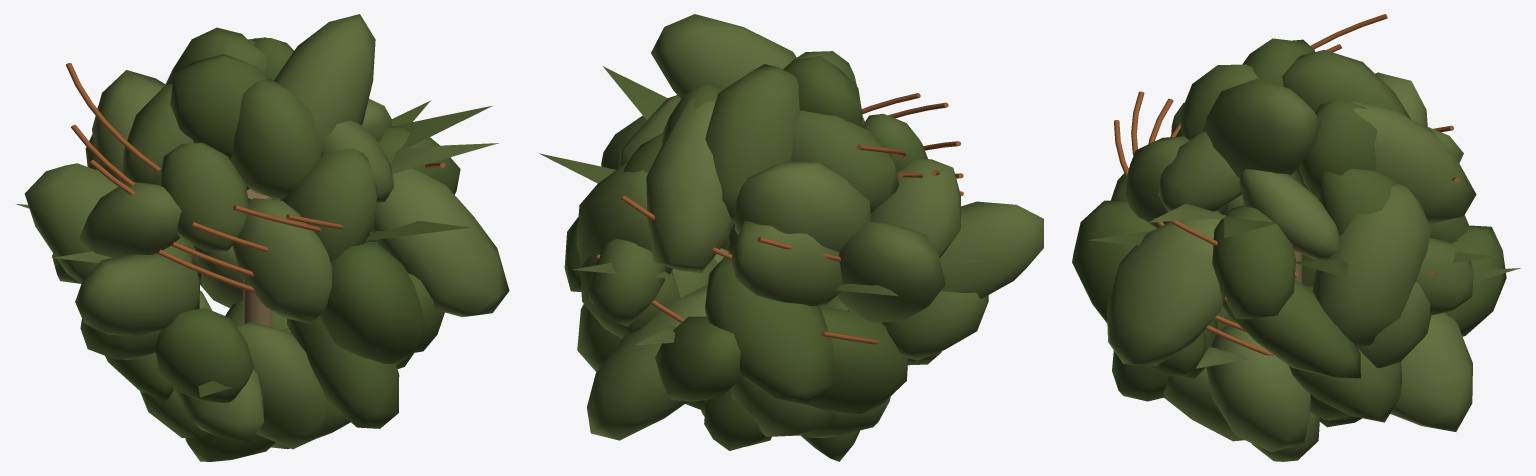
Rendered from bud_6.glb.
3 views of the same model, side by side, from view 1: azimuth 30°, elevation 25°; view 2: azimuth 150°, elevation 25°; view 3: azimuth 270°, elevation 25° (orthographic). The views are drawn at different scales.
Parts seen in each view (by area): view 1: Bud_6; view 2: Bud_6; view 3: Bud_6.
Part boxes in pixels (<box>): Bud_6: <box>16,14,509,461</box>; Bud_6: <box>539,14,1043,461</box>; Bud_6: <box>1072,14,1520,461</box>.
Size of the model in its own units: 0.00572 by 0.00525 by 0.00537.
